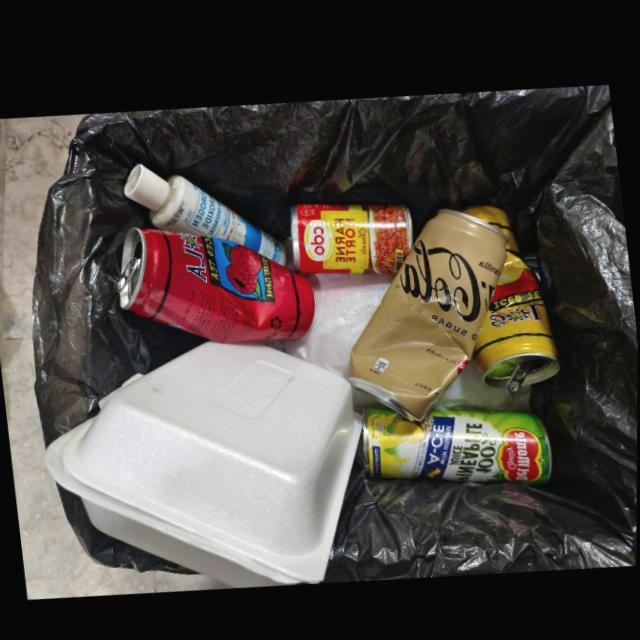aluminum: (347, 201, 510, 417), (119, 225, 316, 339), (463, 197, 560, 386), (362, 399, 553, 478), (290, 195, 413, 272)
plastic_bottle: (123, 161, 287, 261)
